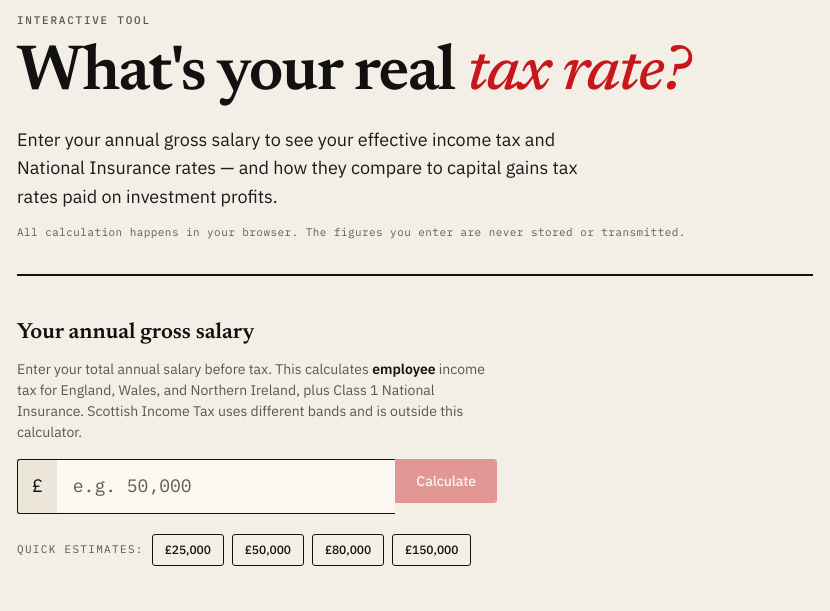
Scenario: TaxCalculator › shows error message for invalid input
In the field with id "salary-input": {"x": 226, "y": 486} [57, 459, 395, 514], type "abc"
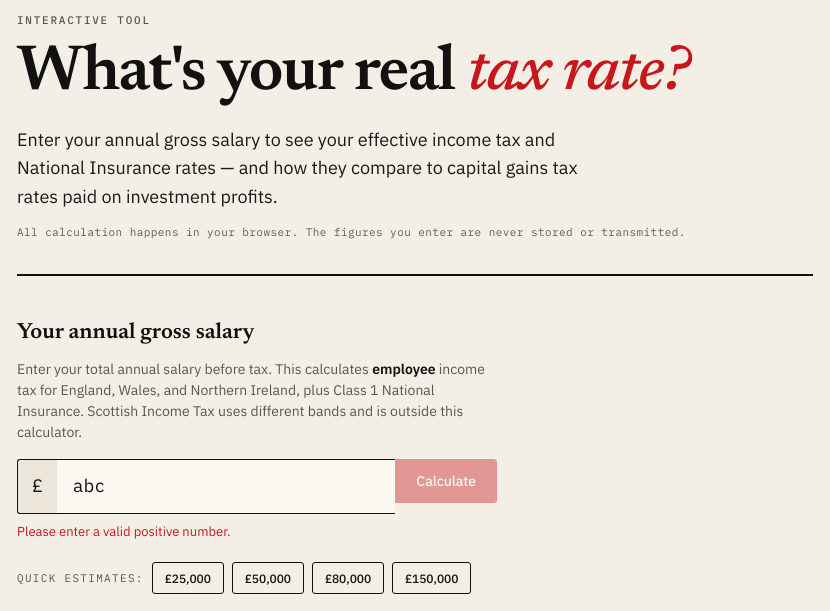
Now the message "Please enter a valid positive number." is shown, box [17, 523, 230, 540]
